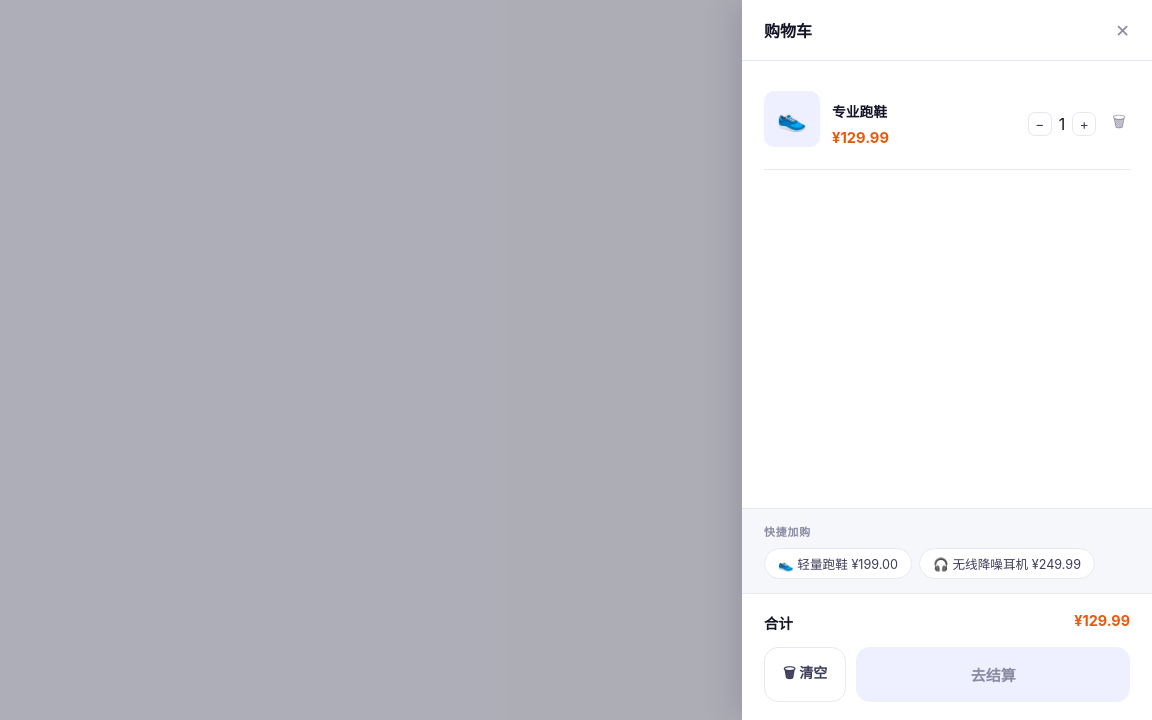
Test: 快捷加购 chips 的门控（R10-8 / R10-9 / R10-10） › 商品全部已加购：chips 区隐藏且不残留上一次的 chips
Check: the text "专业跑鞋" is shown, box [832,104,887,120]
Click the button "👟 轻量跑鞋 ¥199.00" at (838, 564), box [764,548,912,579]
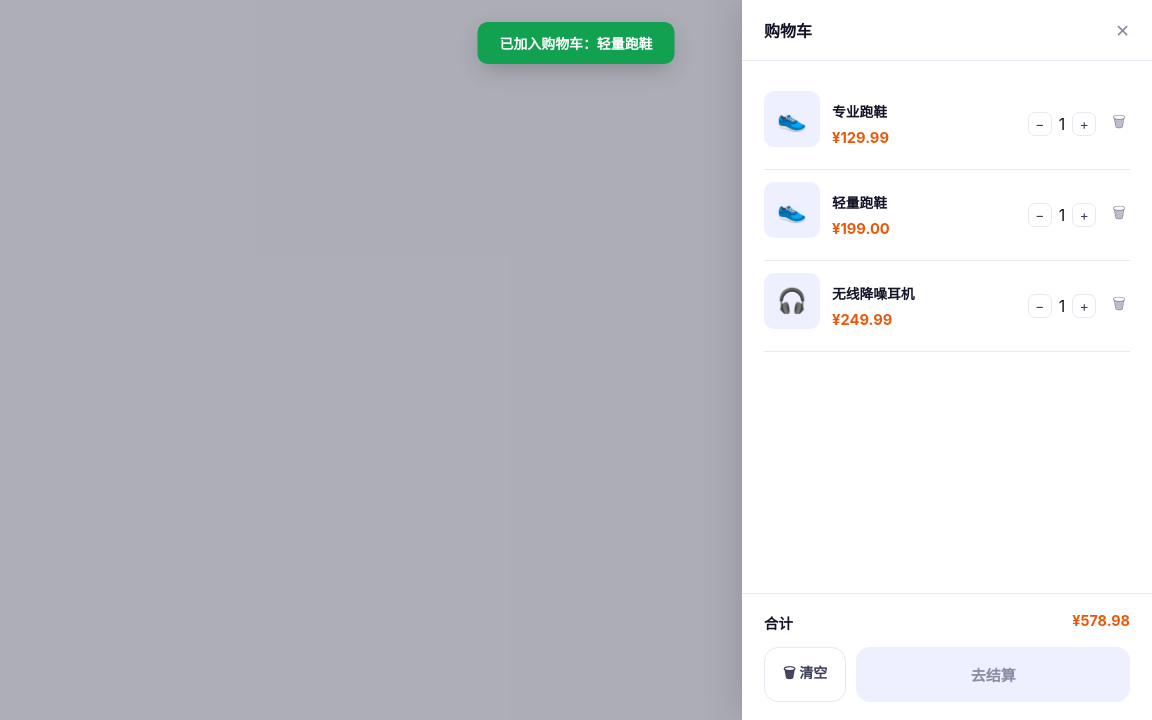
Check: no buttons are shown
